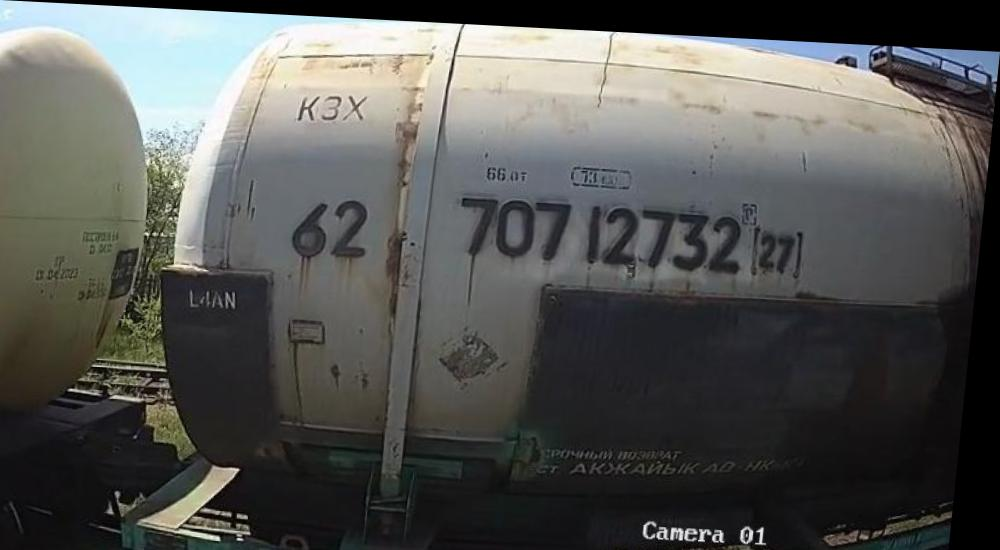Wagon-number: (457, 187, 752, 269)
